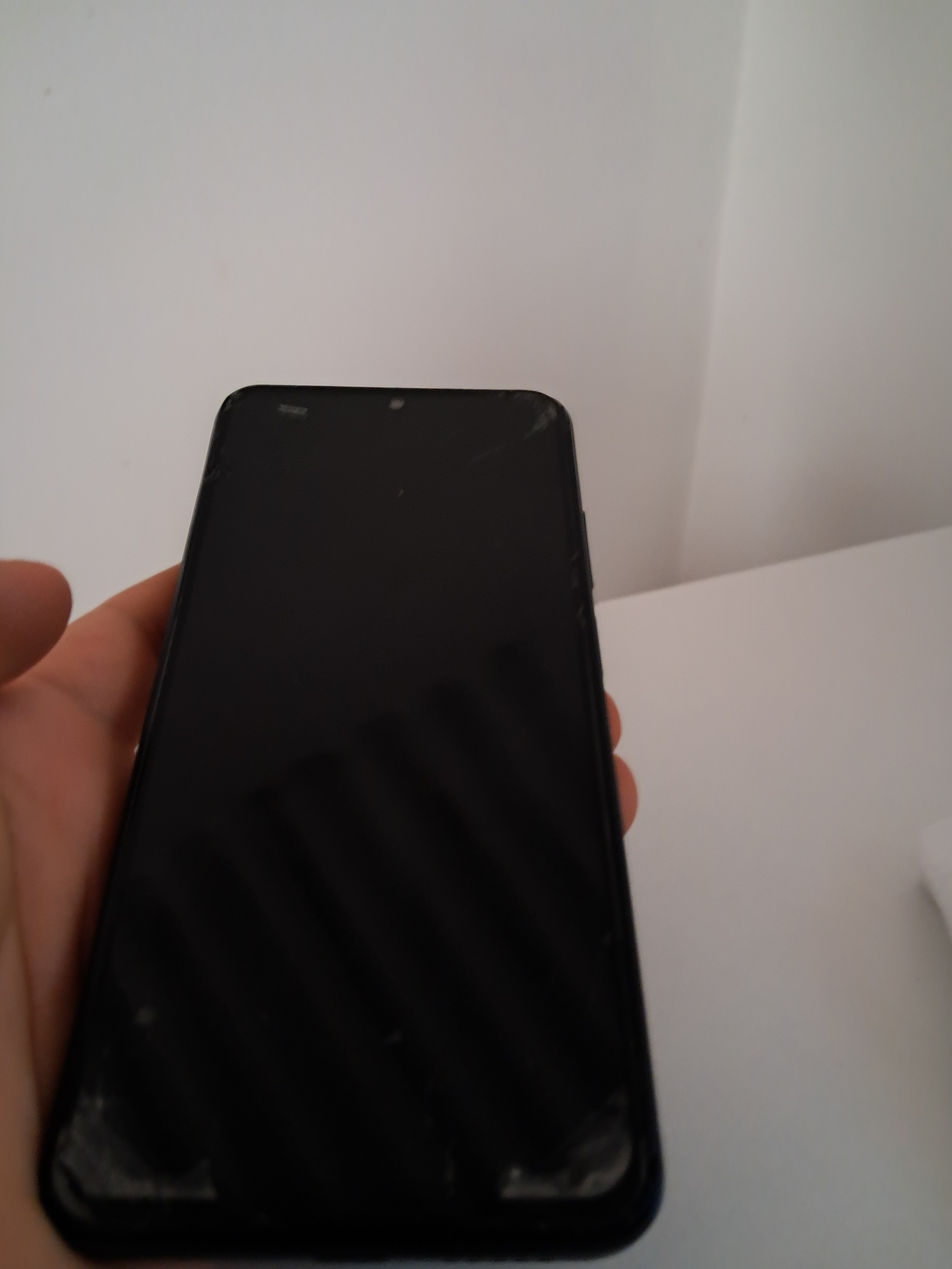phone: (39, 388, 660, 1258)
